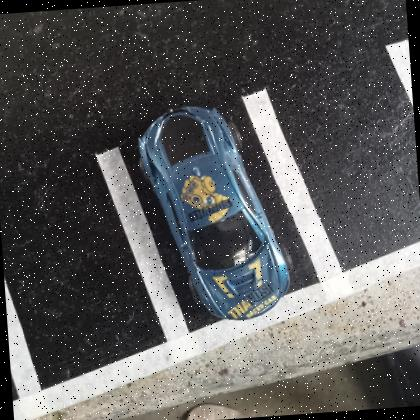Car: (134, 98, 294, 327)
